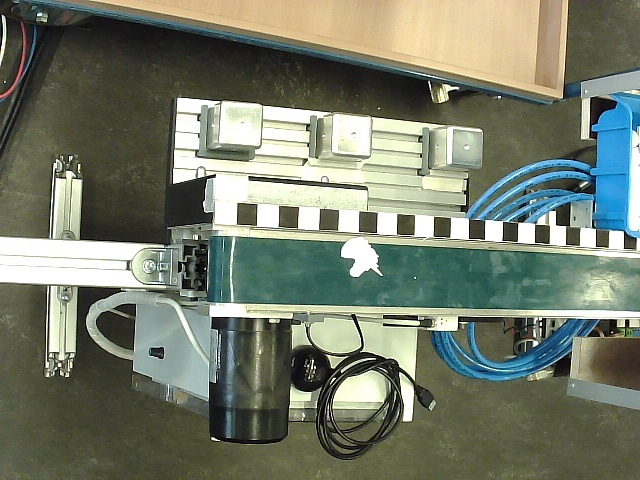unicorn: (340, 236, 384, 278)
